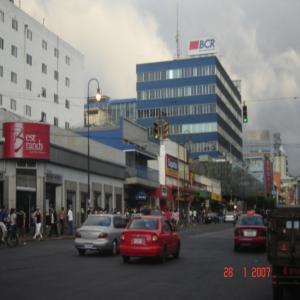Vehicle-registration-plate: (246, 231, 257, 237), (134, 238, 144, 244)
